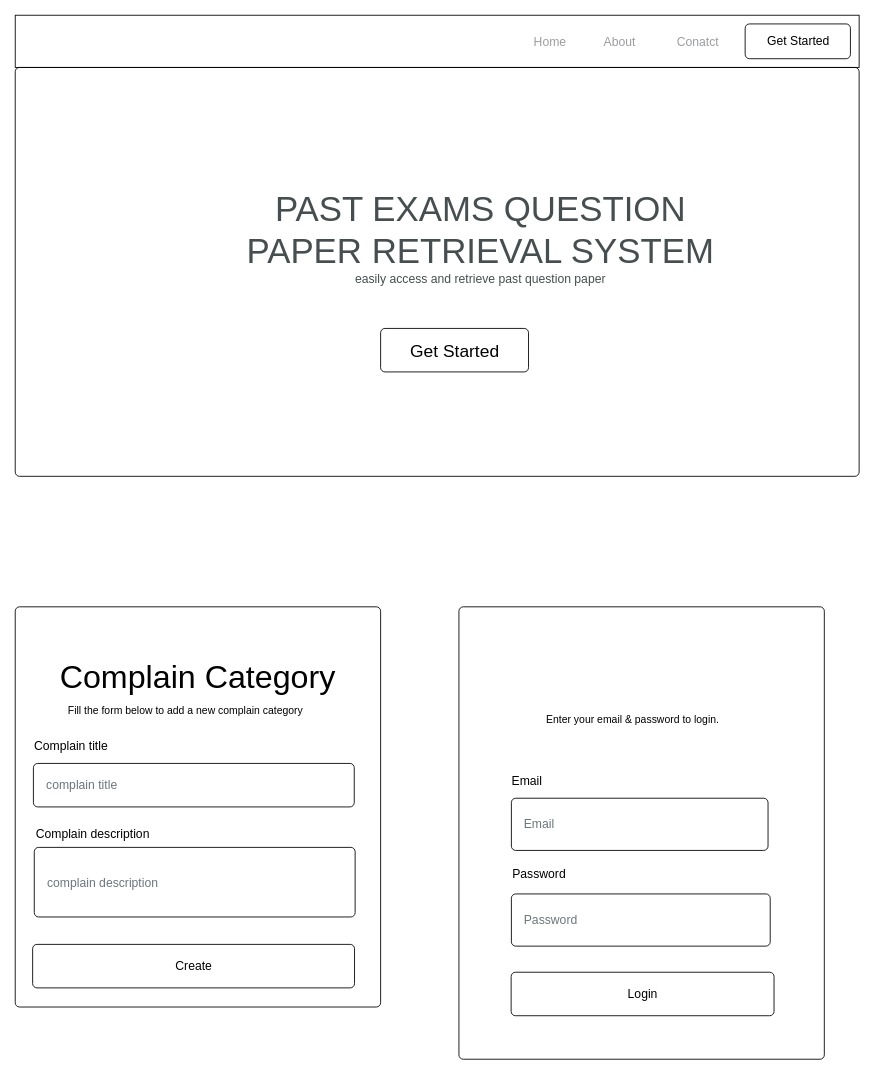
Some shapes in this 874 by 1074 pixel diagram are drawn without their labels. The box of each missing label's shape, as (x1, y1, x2, y2) in pixels:
e-RETRIEVE: (14, 14, 859, 67)
Login to Your Account: (458, 606, 824, 1059)
